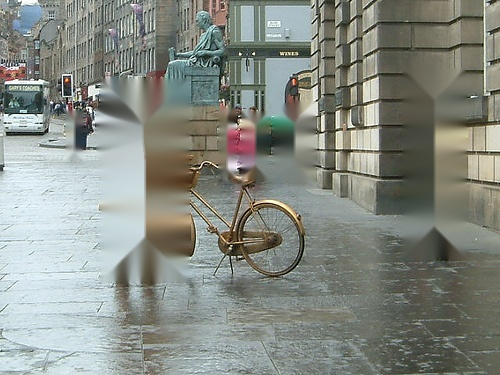bicycle: (151, 160, 310, 280)
bus: (2, 80, 51, 135)
